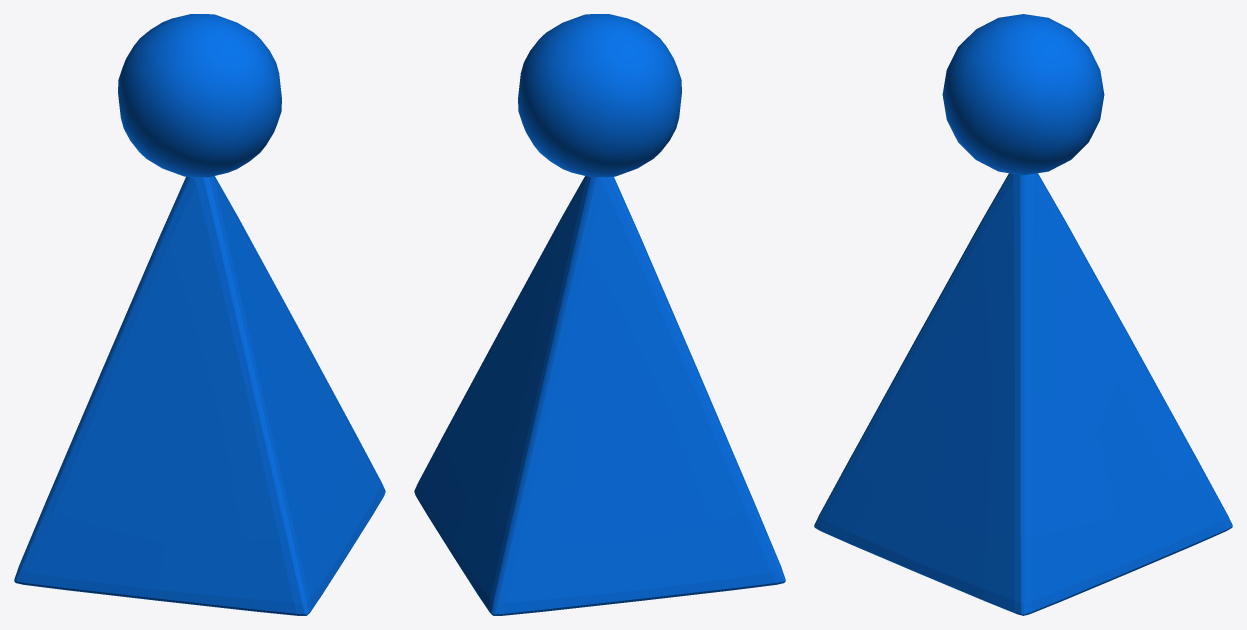
File: player3.glb
3 renders of one model, left to right at view 1: azimuth 30°, elevation 25°; view 2: azimuth 150°, elevation 25°; view 3: azimuth 270°, elevation 25°, orthographic. The views are drawn at different scales.
Visible parts, largest first — view 1: player3; view 2: player3; view 3: player3.
Part boxes in pixels (box(x1,y1,x2,y2)): player3: box(14, 14, 385, 615); player3: box(414, 14, 785, 615); player3: box(814, 14, 1232, 615).
Size of the model in its own units: 1.91 by 2.57 by 1.91.
